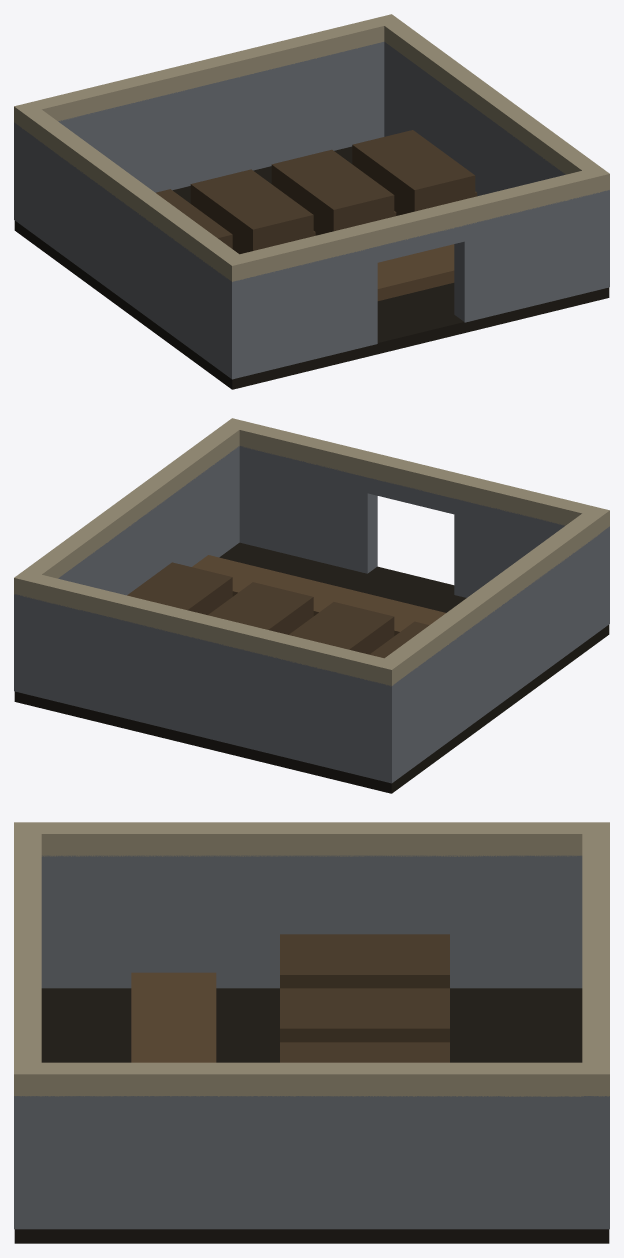
Rendered from StableBlock.fbx.
3 views of the same model, one above another, from view 1: azimuth 30°, elevation 25°; view 2: azimuth 150°, elevation 25°; view 3: azimuth 270°, elevation 25° (orthographic). The views are drawn at different scales.
Visible parts, largest first — view 1: StableBlock; view 2: StableBlock; view 3: StableBlock.
Part boxes in pixels (x1,y1,x2,y2): StableBlock: (14, 14, 609, 389); StableBlock: (14, 418, 609, 793); StableBlock: (14, 822, 609, 1243).
Bounding box in the file's own units: 1122 × 352 × 1122.
5 materials, 5 textured.
